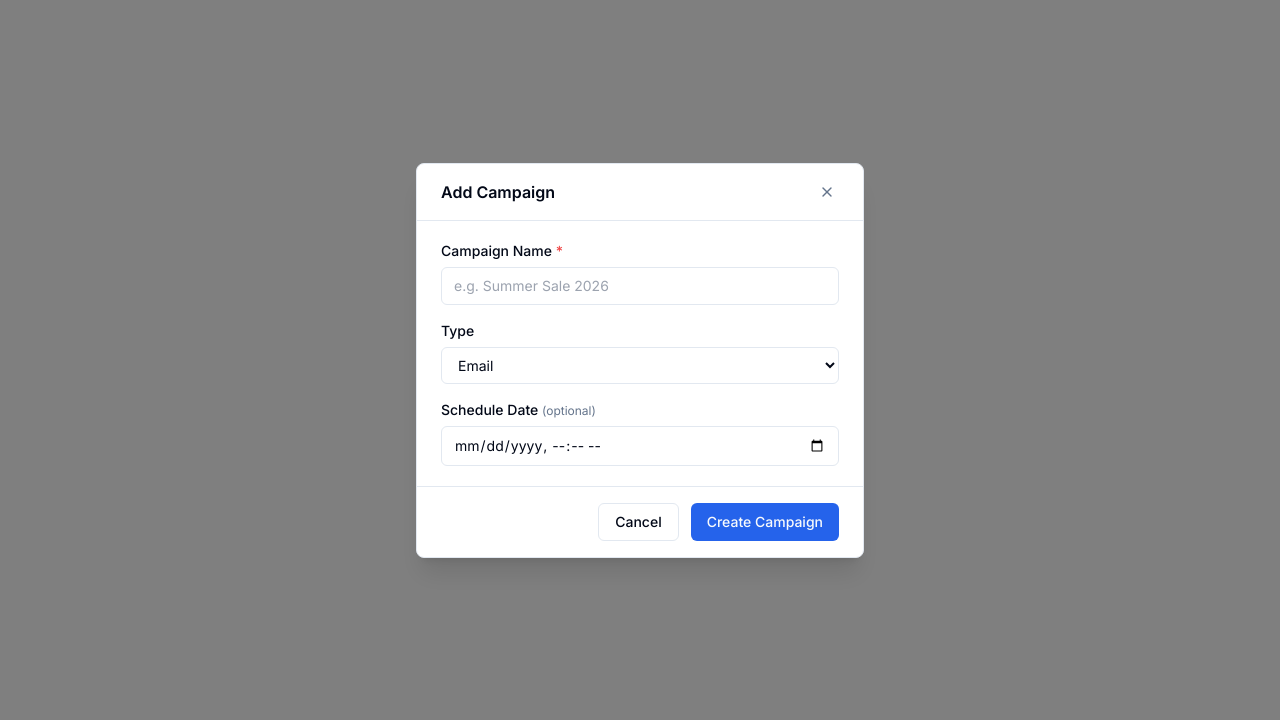
Test: AddCampaignModal › shows validation error when submitting with empty name
The image size is (1280, 720).
Click the button "Create Campaign".
click(765, 522)  # box [691,502,839,540]
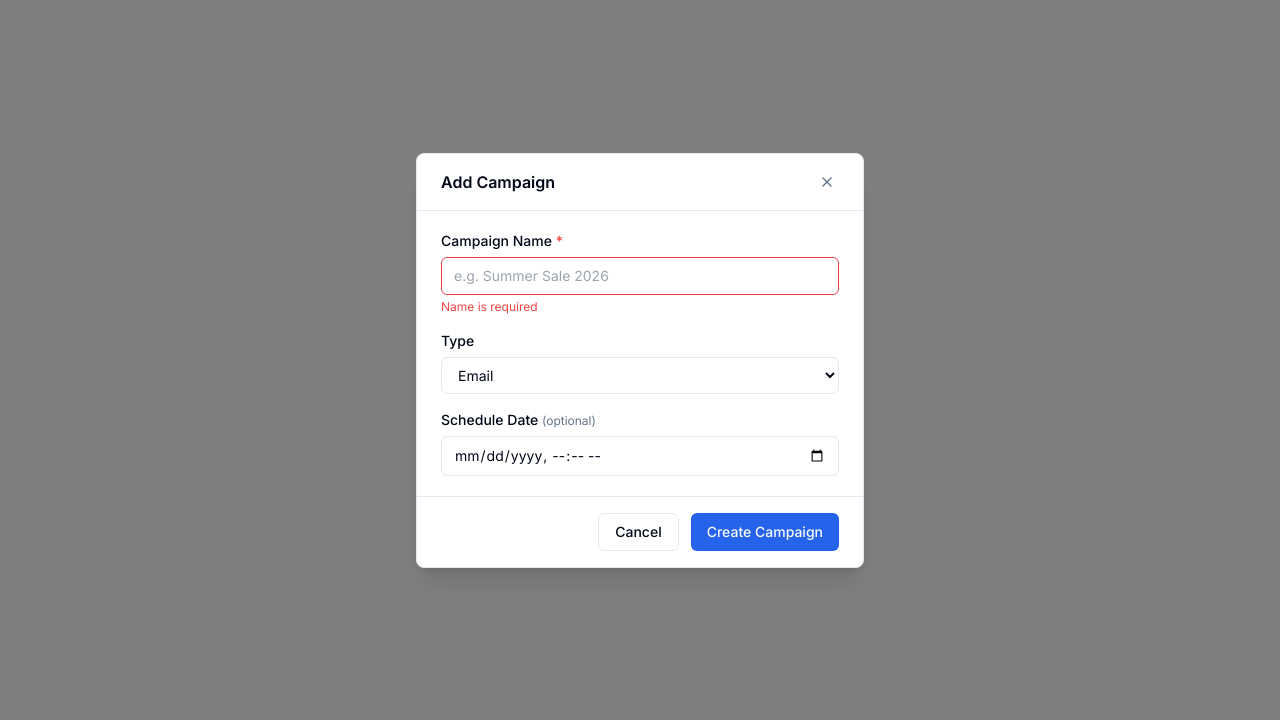
Expected: the text "Name is required" is shown, [441,298,538,314]
